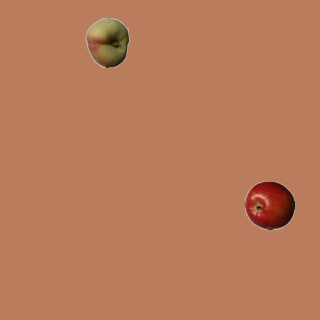Apple Braeburn: (244, 180, 294, 230)
Peach Flat: (82, 17, 132, 67)
